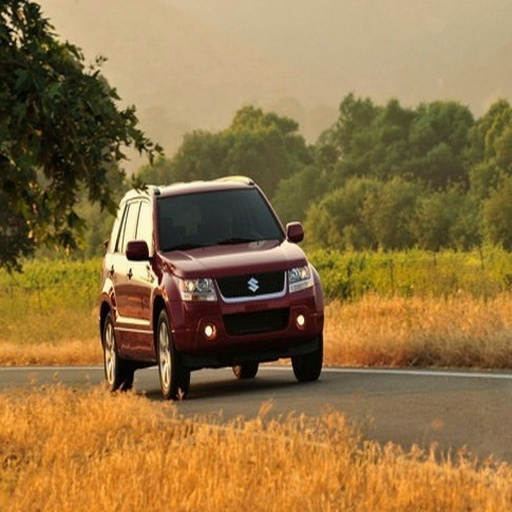front_bumper: (174, 267, 323, 353)
front_right_door: (119, 198, 155, 332)
hood: (163, 240, 303, 275)
